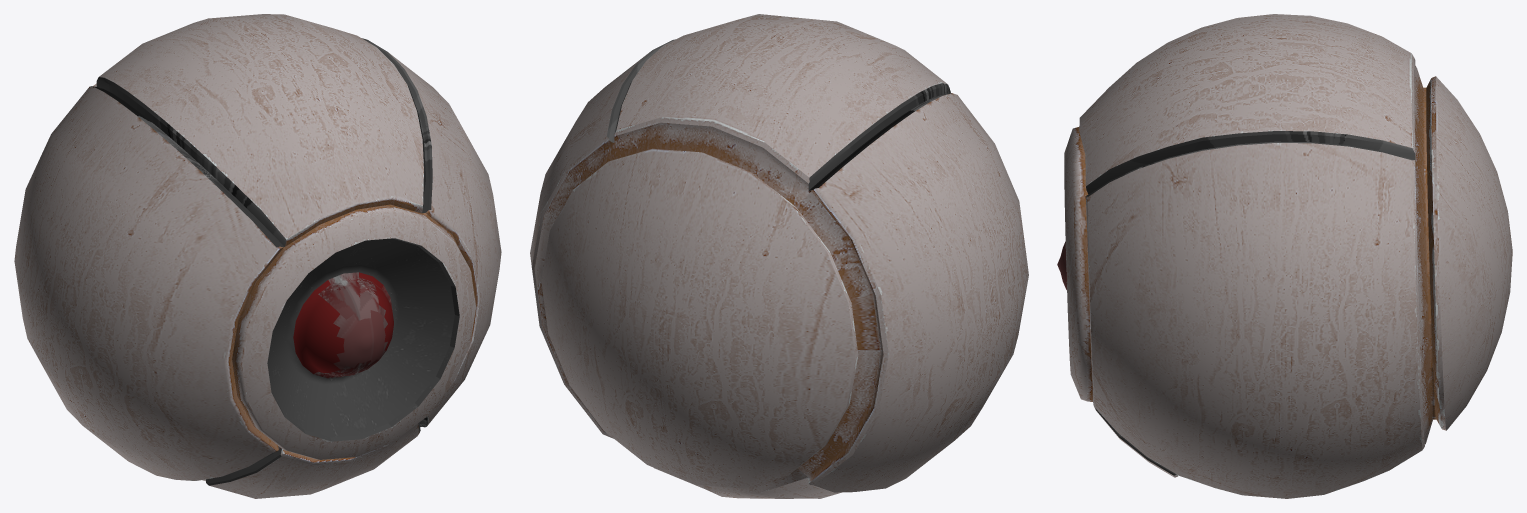
File: GINOHEAD.fbx
3 views of the same model, side by side, from view 1: azimuth 30°, elevation 25°; view 2: azimuth 150°, elevation 25°; view 3: azimuth 270°, elevation 25° (orthographic). The views are drawn at different scales.
Visible parts, largest first — view 1: polySurface54; view 2: polySurface54; view 3: polySurface54.
Part boxes in pixels (x1,y1,x2,y2): polySurface54: [14, 14, 501, 498]; polySurface54: [530, 14, 1028, 498]; polySurface54: [1057, 14, 1512, 498].
Bounding box in the file's own units: 57.24 × 55.5 × 52.3.
4 materials, 4 textured.
